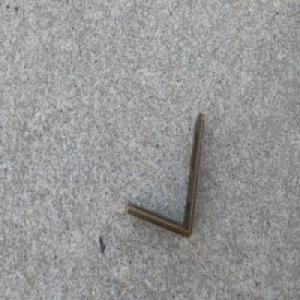MetalPart: (125, 111, 206, 238)
